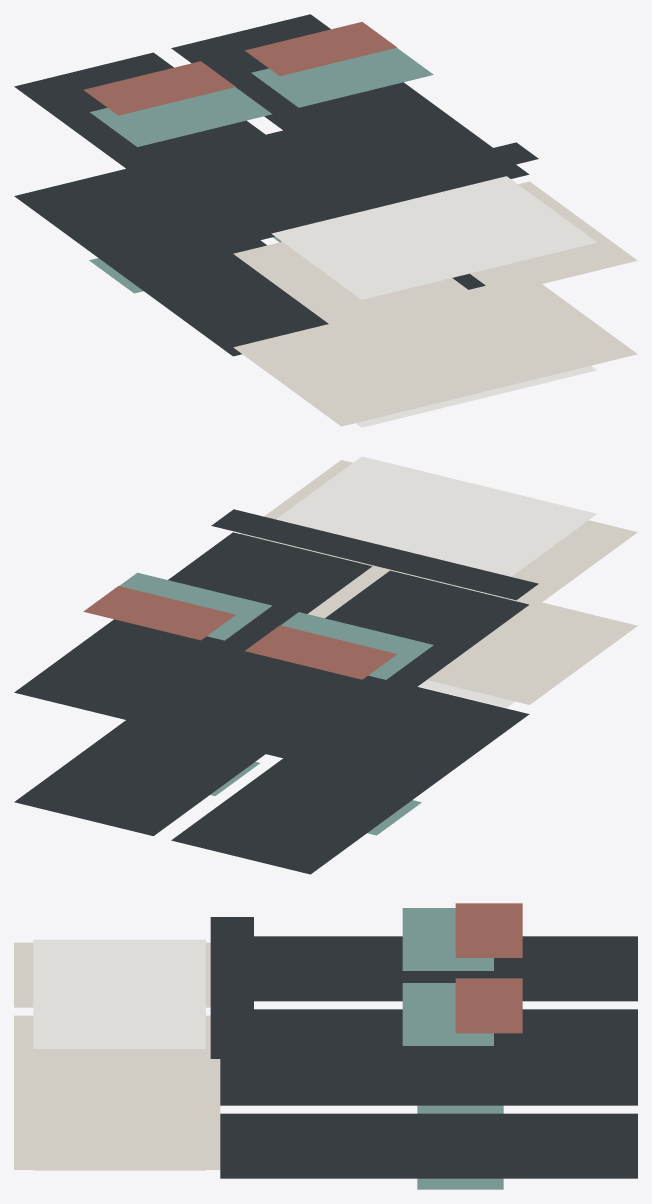
Rendered from structural.obj.
3 views of the same model, one above another, from view 1: azimuth 30°, elevation 25°; view 2: azimuth 150°, elevation 25°; view 3: azimuth 270°, elevation 25° (orthographic). The views are drawn at different scales.
Parts seen in each view (by area): view 1: vest_back, trouser_back_L, inner_front, trouser_front_L, trouser_front_R, vest_front_L, waistband, bellows_knee_R_outer, bellows_knee_L_outer, vest_front_R, bellows_knee_L_inner, bellows_knee_R_inner (+2 smaller); view 2: trouser_back_L, trouser_front_L, trouser_front_R, inner_front, trouser_back_R, vest_back, waistband, vest_front_L, bellows_knee_R_inner, bellows_knee_L_inner, bellows_knee_R_outer, bellows_knee_L_outer (+2 smaller); view 3: trouser_back_R, trouser_front_R, inner_front, trouser_front_L, vest_back, trouser_back_L, vest_front_R, waistband, bellows_knee_L_outer, bellows_knee_R_outer, bellows_knee_R_inner, bellows_knee_L_inner (+3 smaller).
Boxes of the visible parts, x1,y1,x2,y2 form: vest_back: (233,284,637,426); trouser_back_L: (14,169,328,356); inner_front: (271,176,596,299); trouser_front_L: (14,52,367,246); trouser_front_R: (171,14,529,205); vest_front_L: (233,242,480,332); waistband: (211,142,538,233); bellows_knee_R_outer: (251,48,433,107); bellows_knee_L_outer: (90,87,272,146); vest_front_R: (470,181,637,294); bellows_knee_L_inner: (83,61,235,115); bellows_knee_R_inner: (245,22,396,75); trouser_back_L: (171,687,529,874); trouser_front_L: (171,570,528,764); trouser_front_R: (14,532,371,726); inner_front: (276,456,596,576); trouser_back_R: (14,653,270,835); vest_back: (308,567,637,704); waistband: (211,509,538,600); vest_front_L: (397,520,637,611); bellows_knee_R_inner: (83,586,235,640); bellows_knee_L_inner: (245,625,396,679); bellows_knee_R_outer: (119,572,271,640); bellows_knee_L_outer: (281,612,433,679); trouser_back_R: (220,1113,637,1178); trouser_front_R: (220,1009,637,1074); inner_front: (33,939,205,1048); trouser_front_L: (254,936,637,1001); vest_back: (14,1080,220,1169); trouser_back_L: (220,1074,637,1105); vest_front_R: (14,1015,220,1080); waistband: (210,917,253,1058); bellows_knee_L_outer: (402,908,493,970); bellows_knee_R_outer: (402,983,493,1045); bellows_knee_R_inner: (455,978,522,1033); bellows_knee_L_inner: (455,903,522,957).
Bounding box in the file's own units: 0.7 × 0.355 × 1.3.
